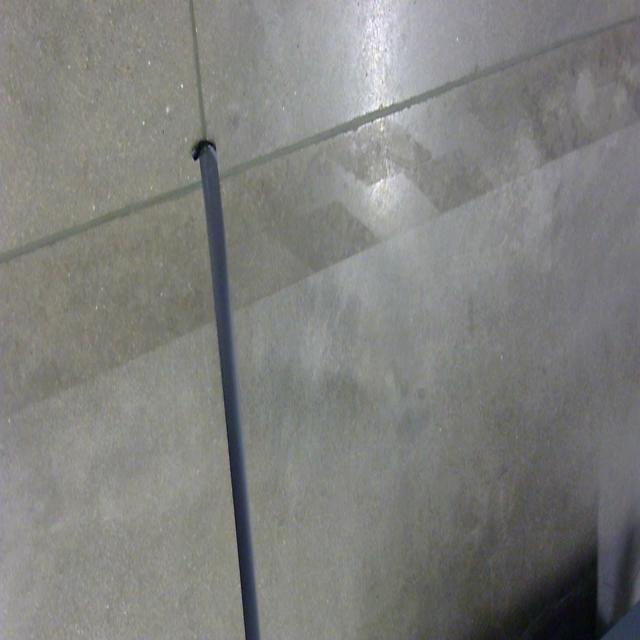tape: (176, 111, 300, 640)
